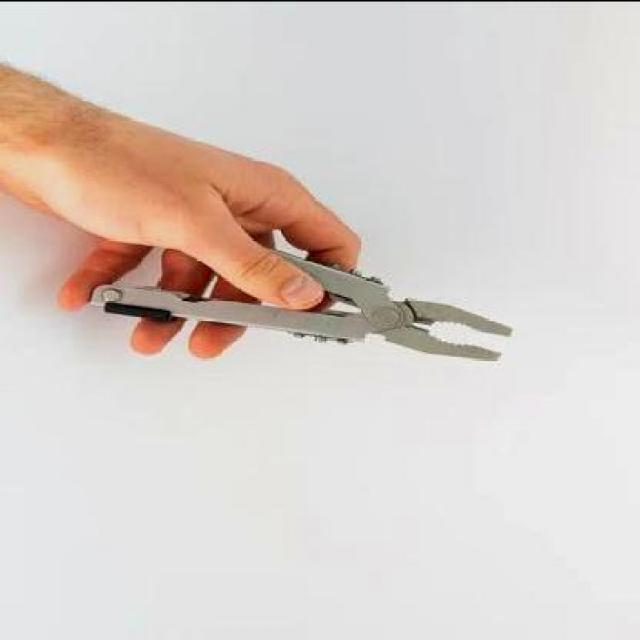pliers: (340, 270, 542, 376)
